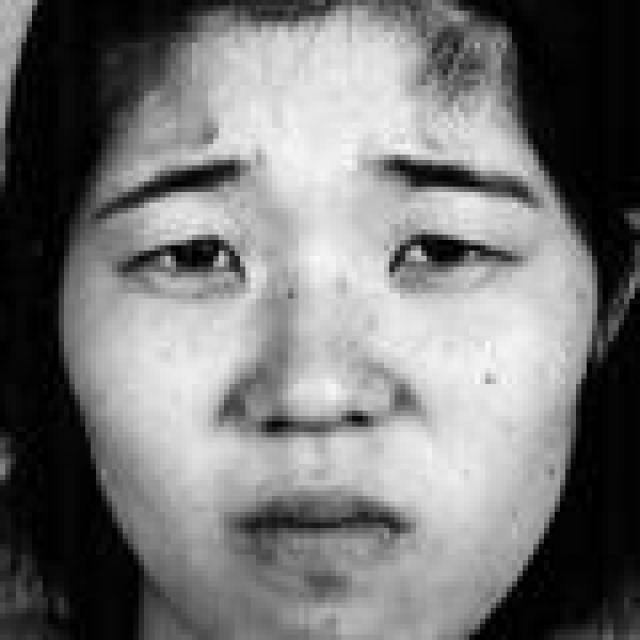sad: (81, 108, 585, 640)
